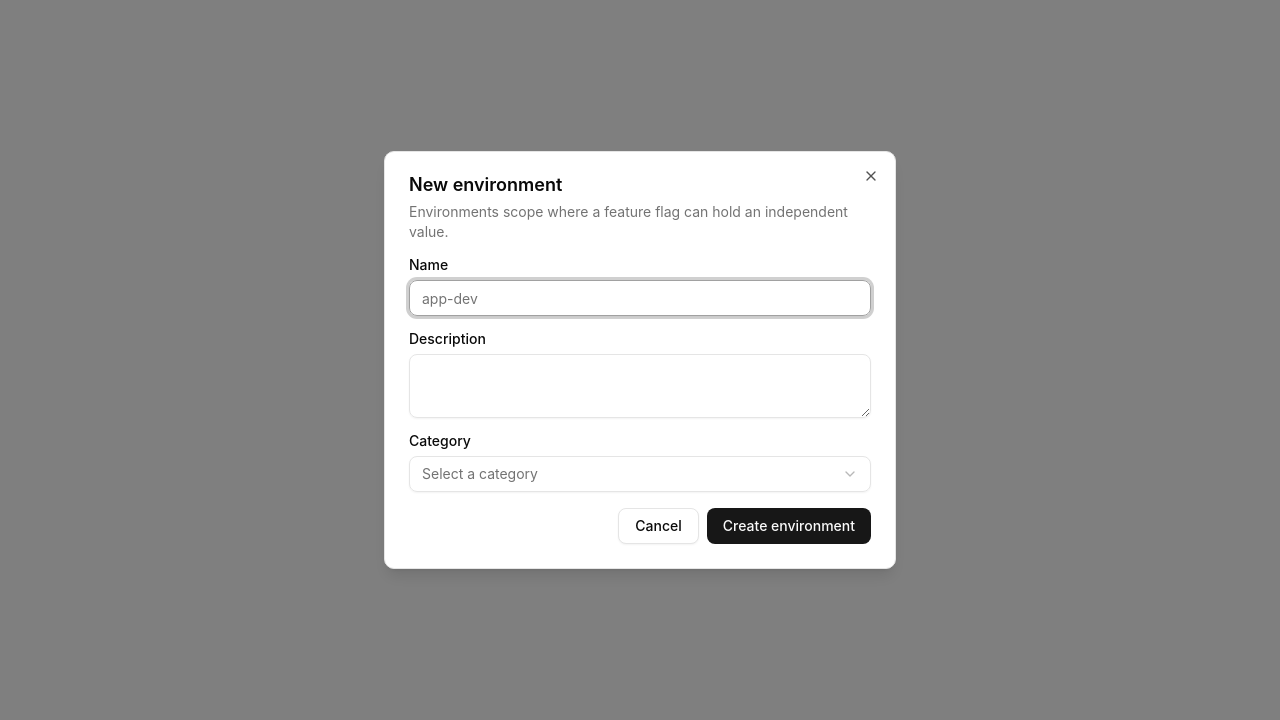
Test: EnvironmentForm › shows validation errors, including a missing new category name
Click the button "Create environment".
click(789, 526)  # box [707,508,871,544]
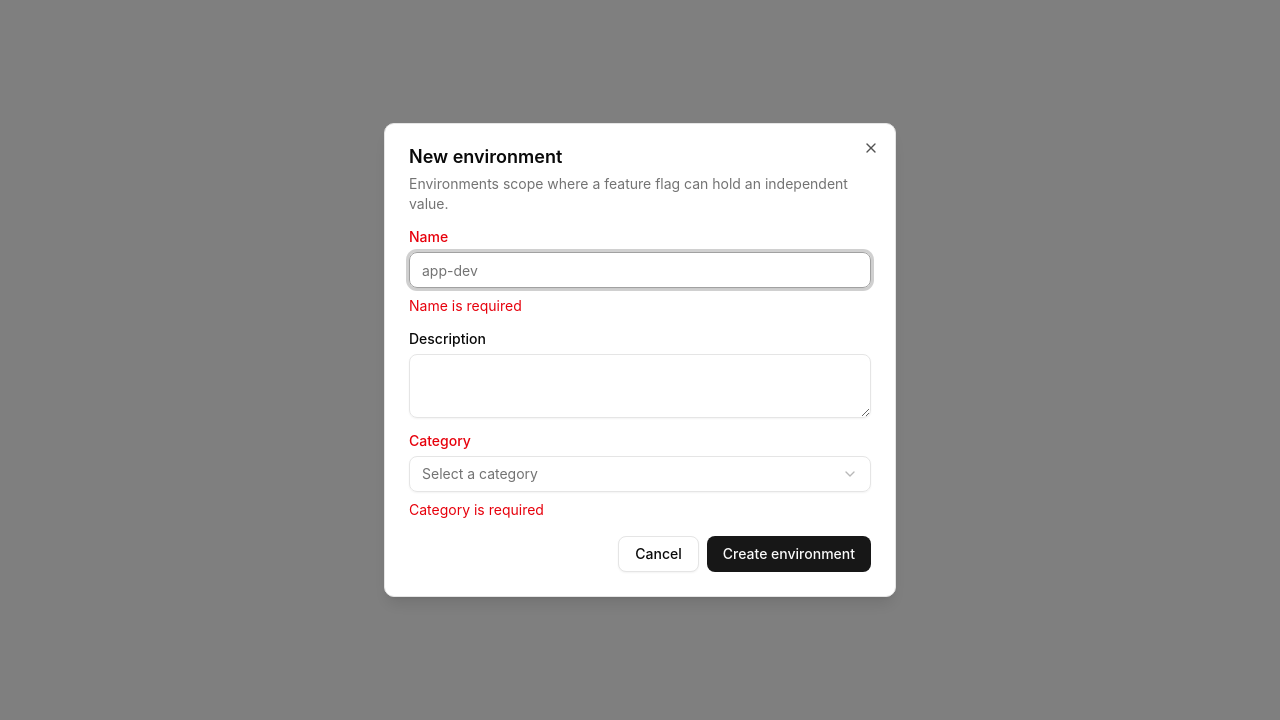
Check: the text "Name is required" is shown, box [409,297,522,314]
Check: the text "Category is required" is shown, box [409,501,544,518]
Click the dropdown labelled "Select a category".
click(480, 474)  # box [409,456,871,492]
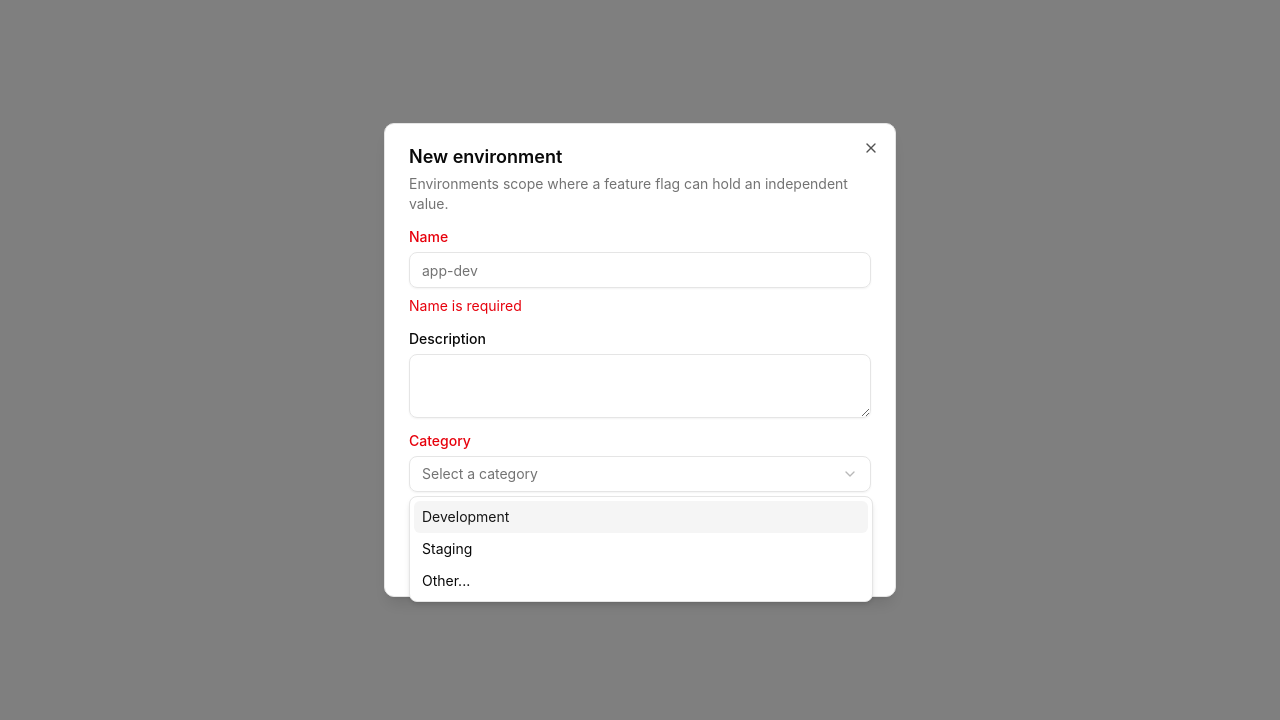
Click the option "Other...".
click(446, 580)  # box [422,572,470,589]
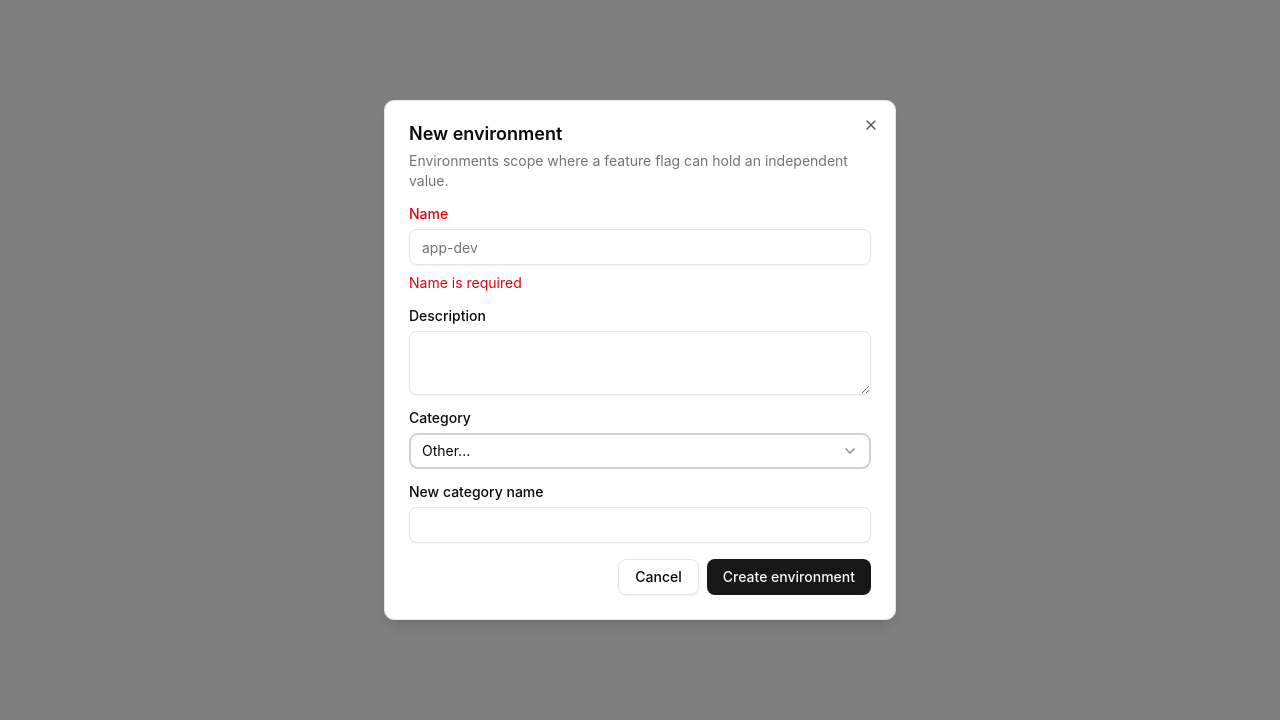
Check: the list is gone
Click the button "Create environment".
click(789, 577)  # box [707,559,871,595]
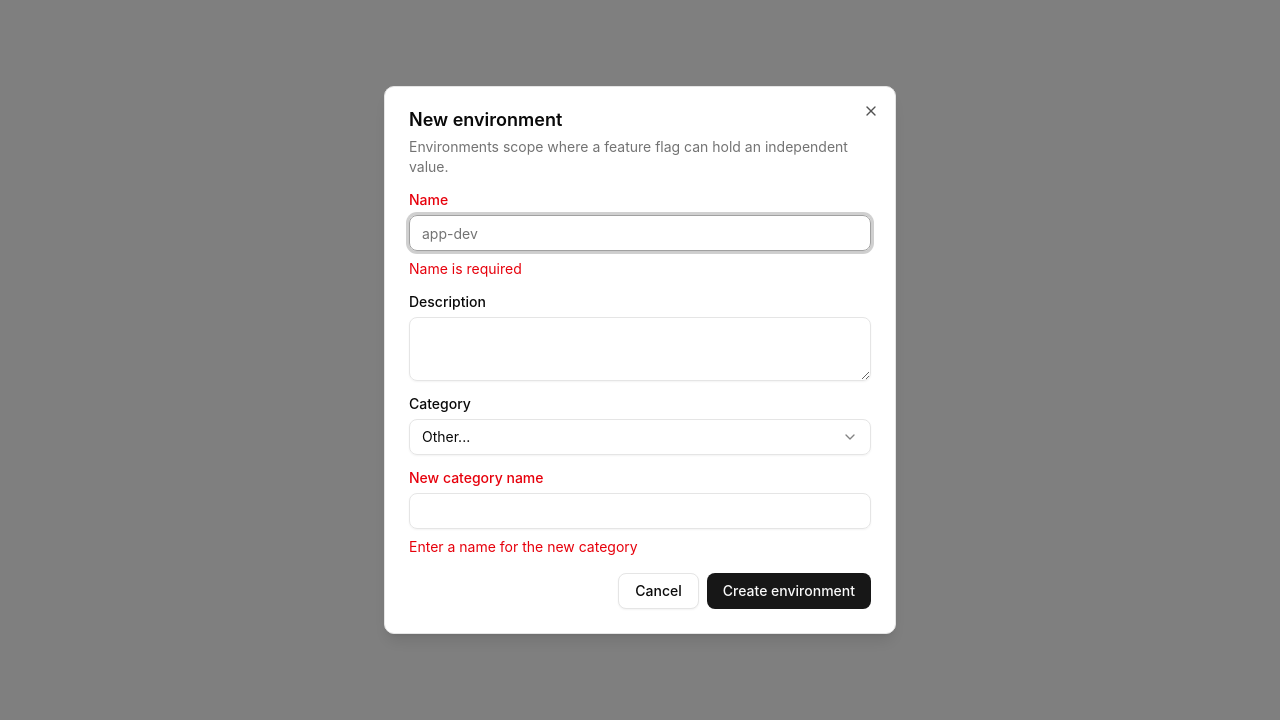
Check: the text "Enter a name for the new category" is shown, box [409,538,638,555]
